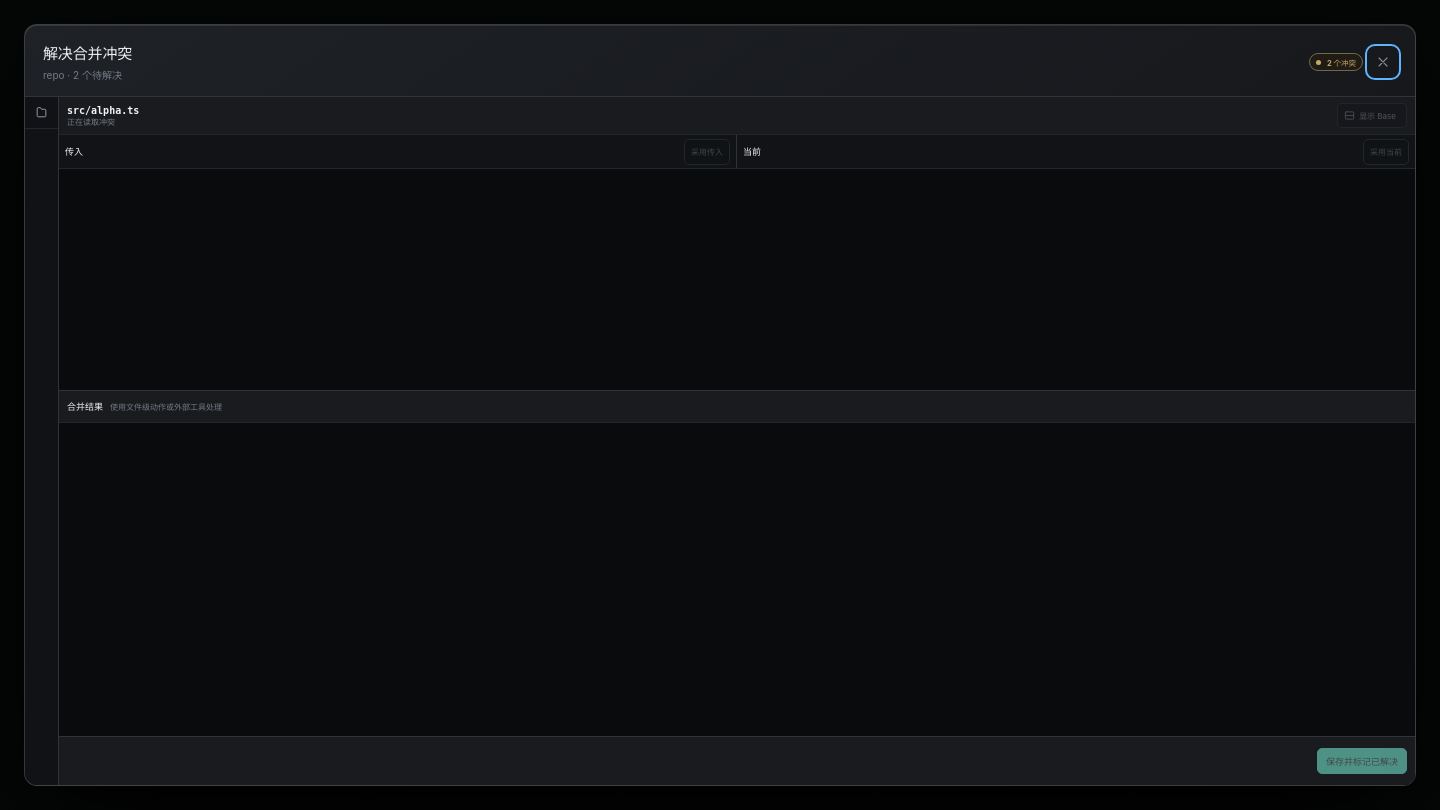
Test: GitConflictResolver › starts with the conflict file list collapsed and restores it from the accessible rail
Expected: the 2nd icon is shown, [35,106,48,119]
Click the button named "展开冲突文件列表" at (42, 112), box [30,101,53,124]
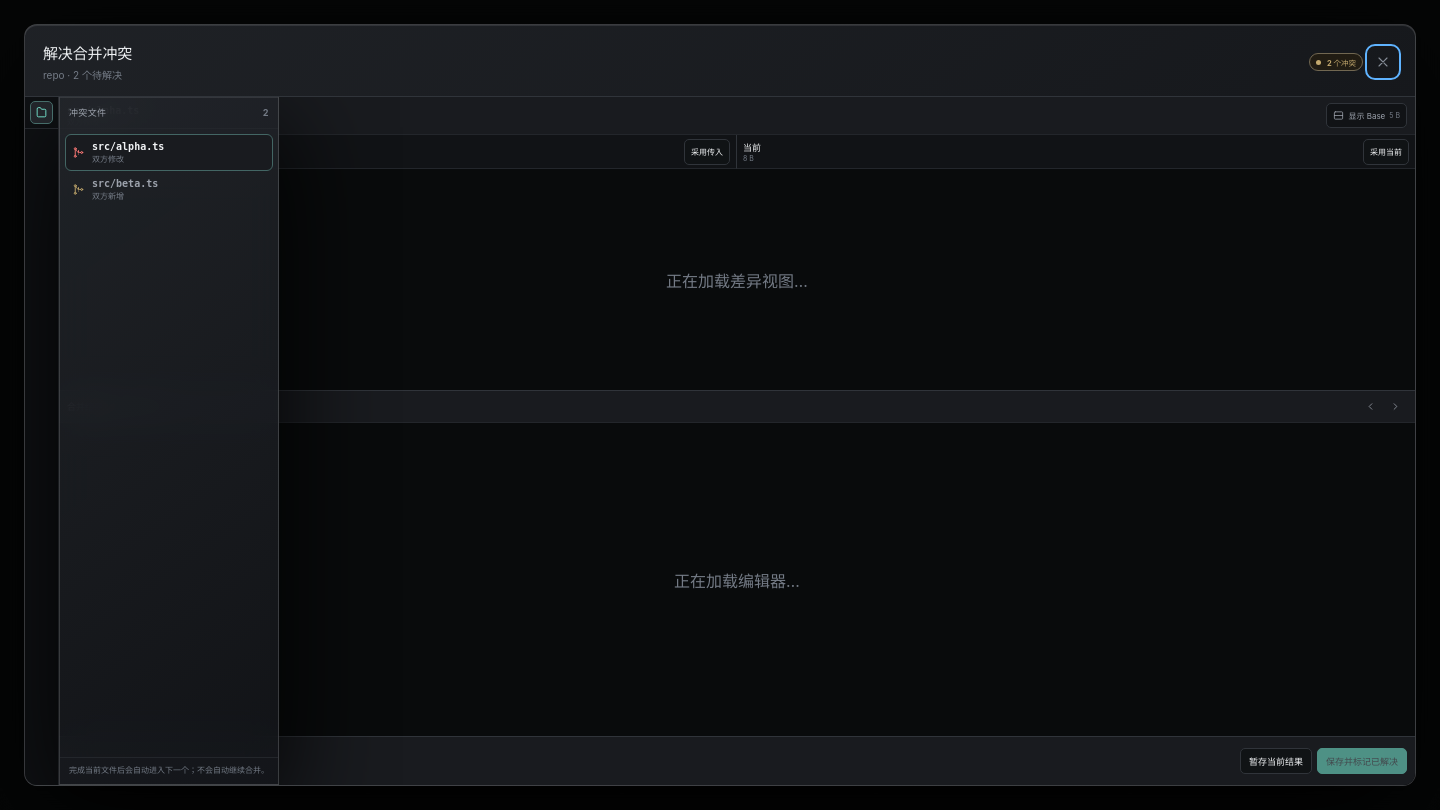
Expected: the button named "收起冲突文件列表" is expanded, [30,101,53,124]
Expected: the list named "冲突文件列表" is shown, [65,134,273,208]
Click the option "src/beta.ts 双方新增" at (169, 190), box [65,171,273,208]
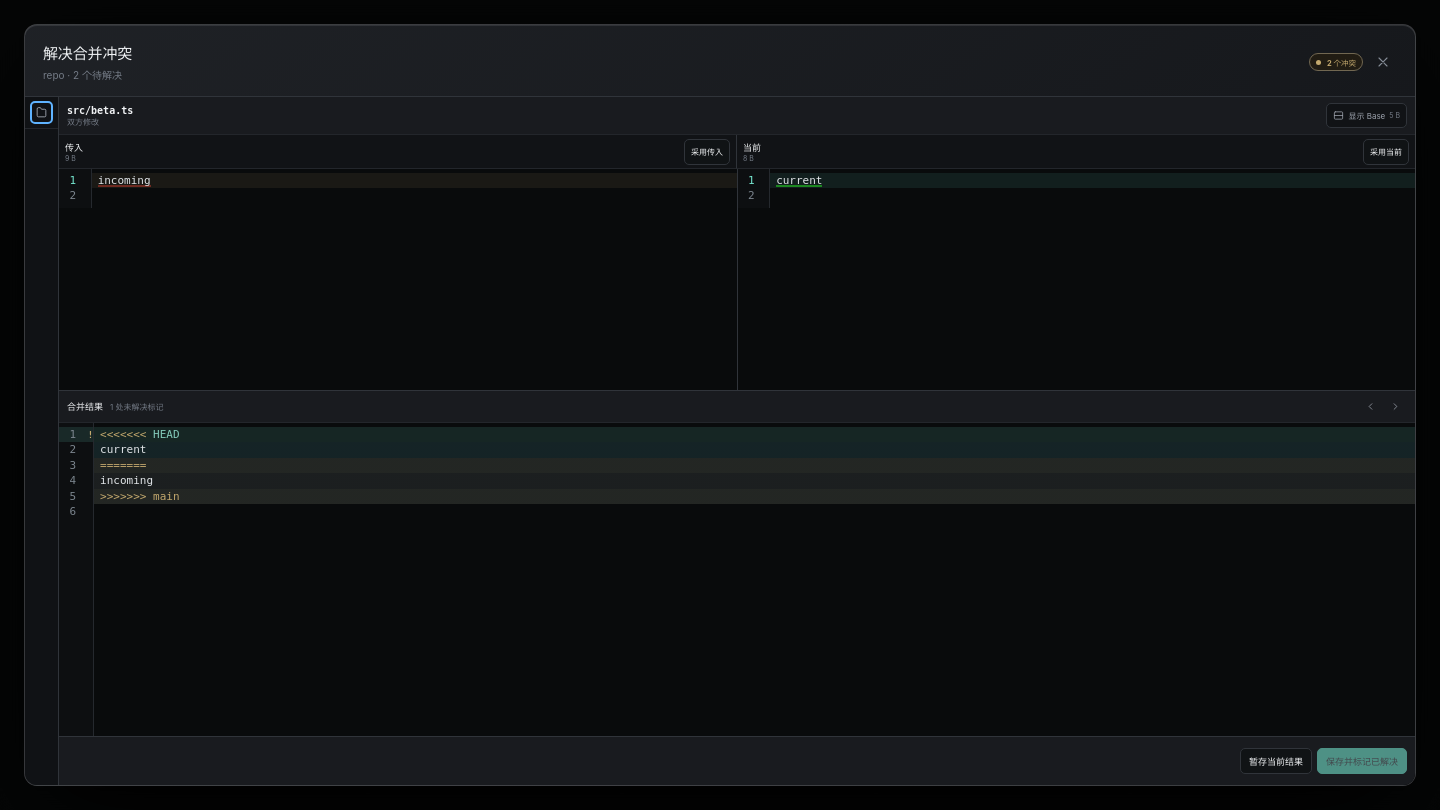
Expected: the button named "展开冲突文件列表" is collapsed, [30,101,53,124]
Expected: the list "冲突文件列表" is gone
